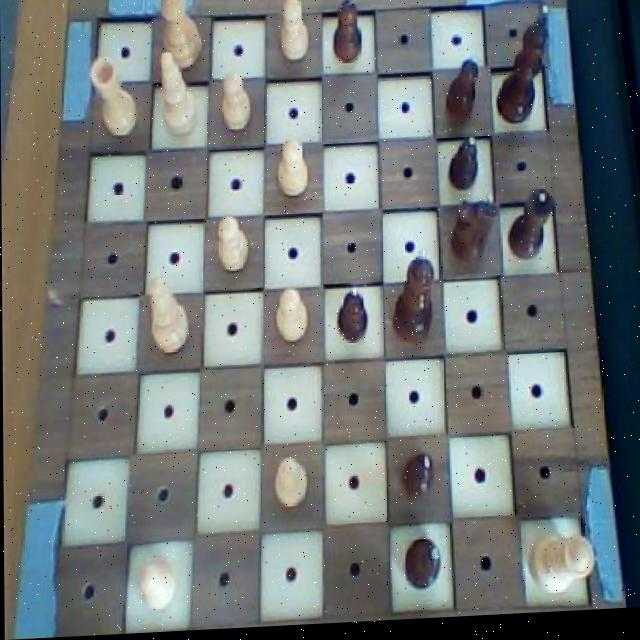bishop: (400, 538, 444, 600)
black-bishop: (491, 8, 554, 135)
black-knight: (439, 59, 484, 132), (330, 0, 363, 74), (397, 450, 436, 511), (334, 284, 370, 350), (446, 136, 482, 199)
black-pawn: (391, 251, 438, 353)
black-queen: (503, 191, 554, 273)
black-rook: (156, 47, 200, 147), (146, 274, 191, 365)
white-bishop: (155, 0, 208, 78)
white-knight: (131, 553, 178, 616), (271, 134, 313, 204), (267, 458, 312, 517), (217, 71, 255, 140), (275, 0, 310, 73), (271, 285, 309, 349), (215, 216, 253, 279)
white-pawn: (521, 533, 597, 604)
white-queen: (87, 53, 142, 142)
